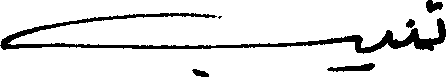ب: (0, 10, 358, 75)
ت: (433, 0, 444, 46)
ن: (409, 16, 419, 49)
ي: (338, 28, 393, 73)
